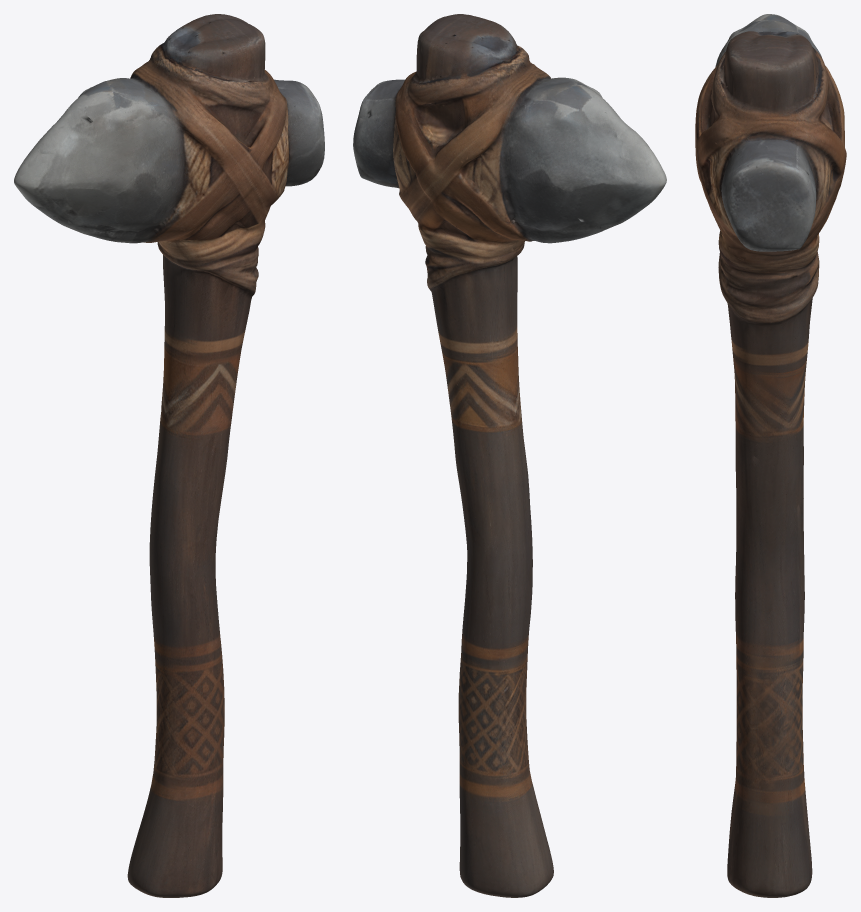
The model's file is Stone Axe.fbx.
The picture shows the model from 3 angles, left to right: view 1: azimuth 30°, elevation 25°; view 2: azimuth 150°, elevation 25°; view 3: azimuth 270°, elevation 25°; orthographic projection. The views are drawn at different scales.
Visible parts, largest first — view 1: Mesh_0; view 2: Mesh_0; view 3: Mesh_0.
Boxes of the visible parts, box(x1,y1,x2,y2) form: Mesh_0: box(14, 14, 324, 897); Mesh_0: box(353, 14, 666, 897); Mesh_0: box(695, 14, 846, 897).
Size of the model in its own units: 73.08 by 200 by 31.78.
Materials: 1 (1 with a texture image).
